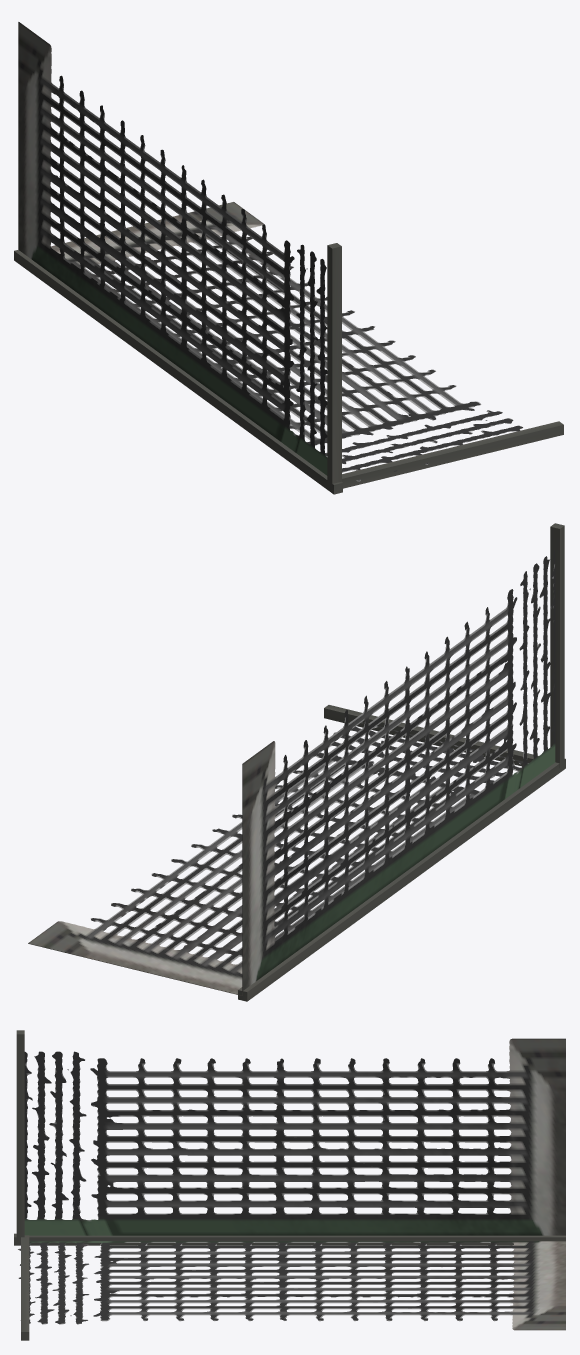
The model's file is pz_fence_png_fencing_01_52.obj.
3 renders of one model, top to bottom at view 1: azimuth 30°, elevation 25°; view 2: azimuth 150°, elevation 25°; view 3: azimuth 270°, elevation 25°, orthographic. The views are drawn at different scales.
Bounding box in the file's own units: 1.02 × 1.02 × 2.41.
1 material, 1 textured.
